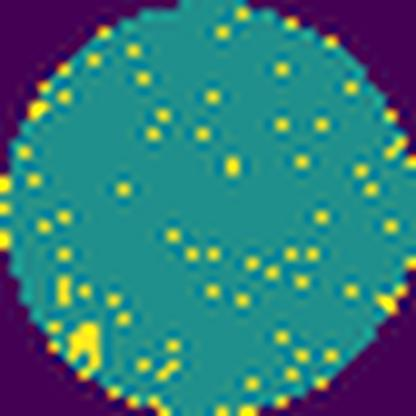Loc: (67, 316, 98, 380)
